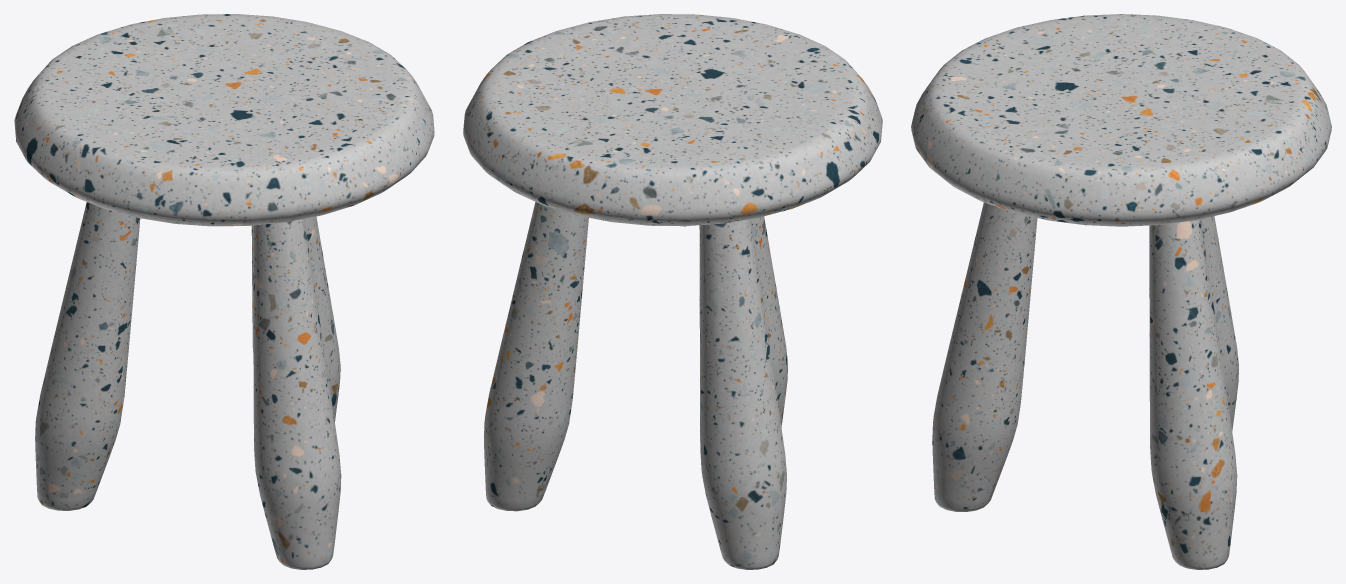
File: timber_stool.glb
The picture shows the model from 3 angles, left to right: view 1: azimuth 30°, elevation 25°; view 2: azimuth 150°, elevation 25°; view 3: azimuth 270°, elevation 25°; orthographic projection.
Parts seen in each view (by area): view 1: Timber Stool; view 2: Timber Stool; view 3: Timber Stool.
Part boxes in pixels (x1=…): Timber Stool: x1=14, y1=14, x2=434, y2=569; Timber Stool: x1=463, y1=14, x2=882, y2=569; Timber Stool: x1=911, y1=14, x2=1331, y2=569.
Size of the model in its own units: 0.3798 by 0.4081 by 0.3798.
1 material, 1 textured.
